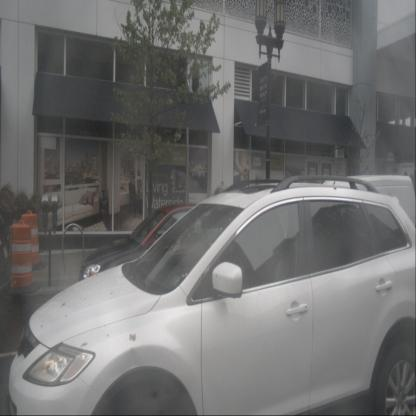movable_object-trafficcone: (2, 219, 40, 296), (16, 209, 46, 270)
vehicle-car: (7, 175, 415, 415), (79, 201, 279, 326)
